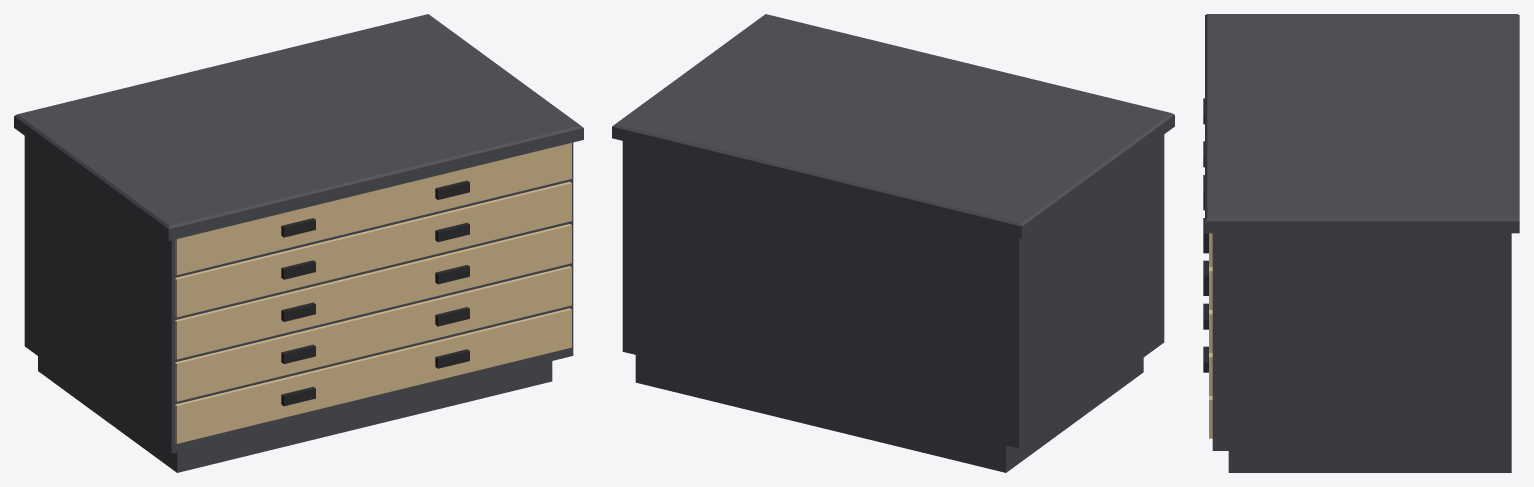
The model's file is FN_Chest_Plan.glb.
The picture shows the model from 3 angles, left to right: view 1: azimuth 30°, elevation 25°; view 2: azimuth 150°, elevation 25°; view 3: azimuth 270°, elevation 25°; orthographic projection. The views are drawn at different scales.
Parts seen in each view (by area): view 1: FN_Chest_Plan; view 2: FN_Chest_Plan; view 3: FN_Chest_Plan.
Boxes of the visible parts, <box> form: FN_Chest_Plan: <box>14,14,583,472</box>; FN_Chest_Plan: <box>612,14,1174,472</box>; FN_Chest_Plan: <box>1203,14,1519,472</box>.
Bounding box in the file's own units: 1.24 × 0.74 × 0.804.
Materials: 1 (1 with a texture image).
